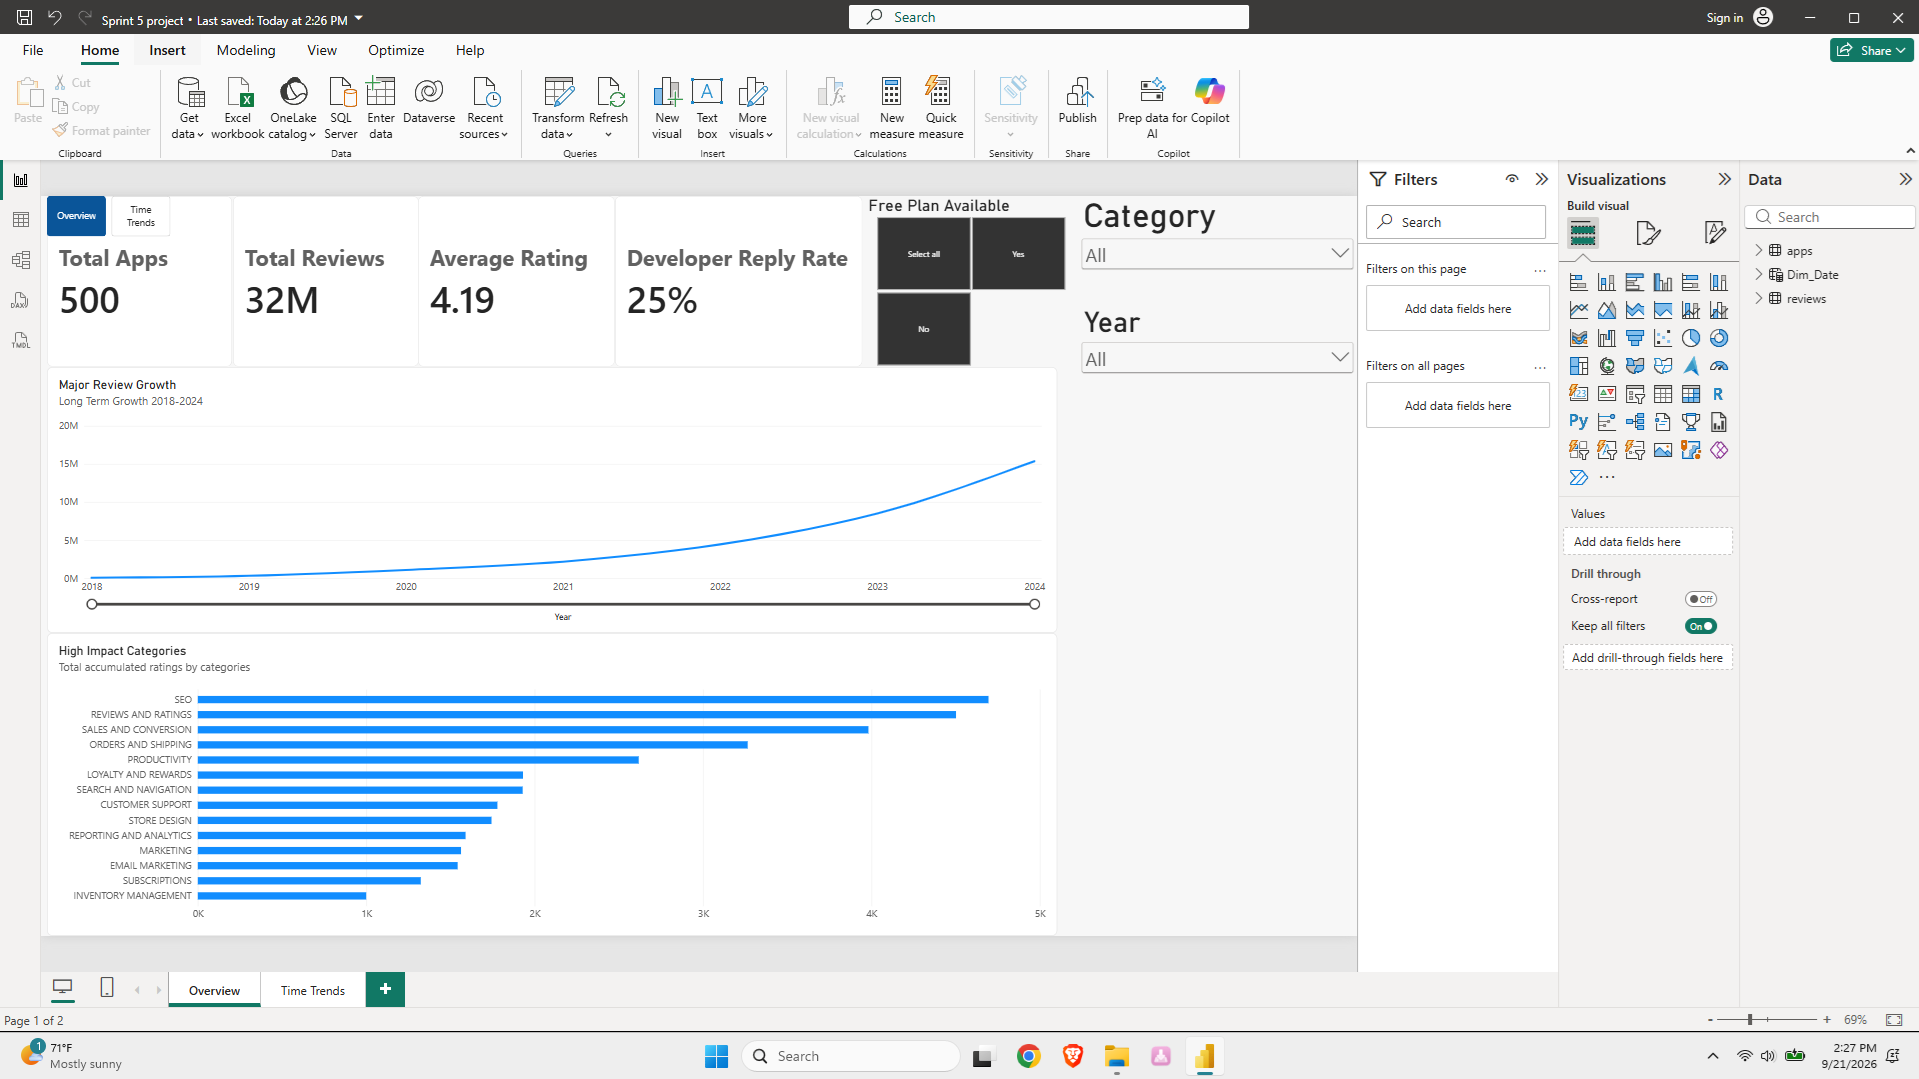

The dashboard page shown, as its layout file describes it:
{"tool":"powerbi","page":{"name":"Overview","canvas":[1920,1080],"ordinal":0},"visuals":[{"type":"cardVisual","fields":{"Data":["CountNonNull(apps.app_id)"]},"box":[9.4,0,270.6,249.4],"z":0},{"type":"cardVisual","fields":{"Data":["Sum(reviews.review_id)"]},"box":[280,0,271,249],"z":1000},{"type":"cardVisual","fields":{"Data":["Avg(reviews.rating)"]},"box":[550.6,0,287.1,249.4],"z":2000},{"type":"cardVisual","fields":{"Data":["reviews.Developer Reply Rate"]},"box":[837.4,0,361.8,249.5],"z":3000},{"type":"slicer","fields":{"Values":["apps.category_name"]},"box":[1512.9,0,407.1,159],"z":4000},{"type":"slicer","fields":{"Values":["apps.has_free_plan"]},"box":[1199.3,0,313.7,249.5],"z":5000},{"type":"slicer","fields":{"Values":["Dim_Date.Year"]},"box":[1512.9,159,407.1,124],"z":6000},{"type":"lineChart","title":"Major Review Growth","fields":{"Category":["Dim_Date.Year"],"Y":["Sum(reviews.review_id)"]},"box":[8.8,249.5,1473.6,388.1],"z":7000},{"type":"barChart","title":"High Impact Categories  ","fields":{"Category":["apps.category_name"],"Y":["Sum(reviews.rating)"]},"box":[8.8,637.6,1473.6,442.1],"z":8000},{"type":"pageNavigator","box":[8.8,0,180.9,59.8],"z":9000}]}

Visuals, with their boxes on the page's 1920x1080 design canvas (x1, y1, x2, y2). These are canvas units, not pixel positions in the 1919x1079 screenshot, which may show the page scaled, cropped or inside an application window:
cardVisual - CountNonNull(apps.app_id): (9,0,280,249)
cardVisual - Sum(reviews.review_id): (280,0,551,249)
cardVisual - Avg(reviews.rating): (551,0,838,249)
cardVisual - reviews.Developer Reply Rate: (837,0,1199,250)
slicer - apps.category_name: (1513,0,1920,159)
slicer - apps.has_free_plan: (1199,0,1513,250)
slicer - Dim_Date.Year: (1513,159,1920,283)
"Major Review Growth" lineChart: (9,250,1482,638)
"High Impact Categories  " barChart: (9,638,1482,1080)
pageNavigator: (9,0,190,60)
